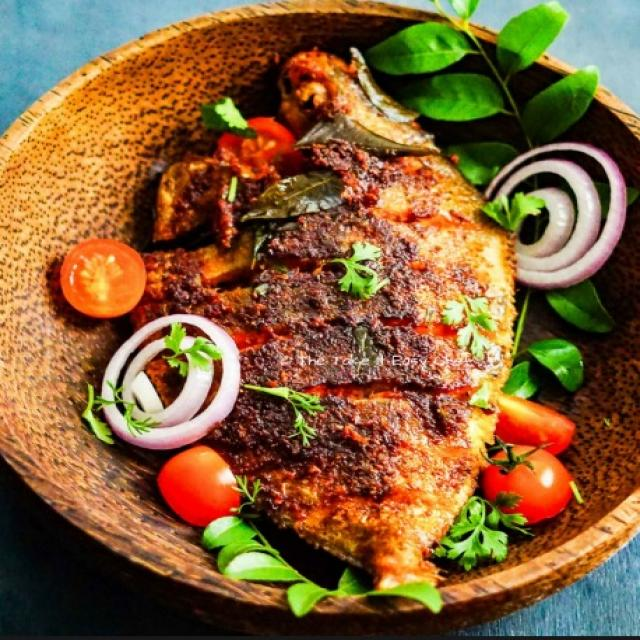FISH FRY: (44, 46, 576, 577)
